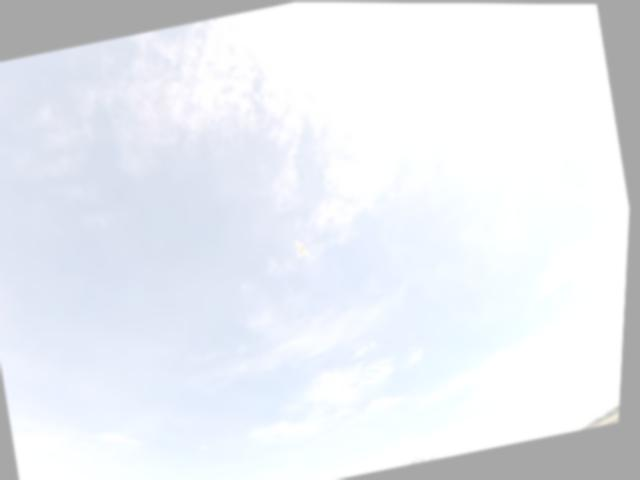plane: (295, 237, 312, 259)
